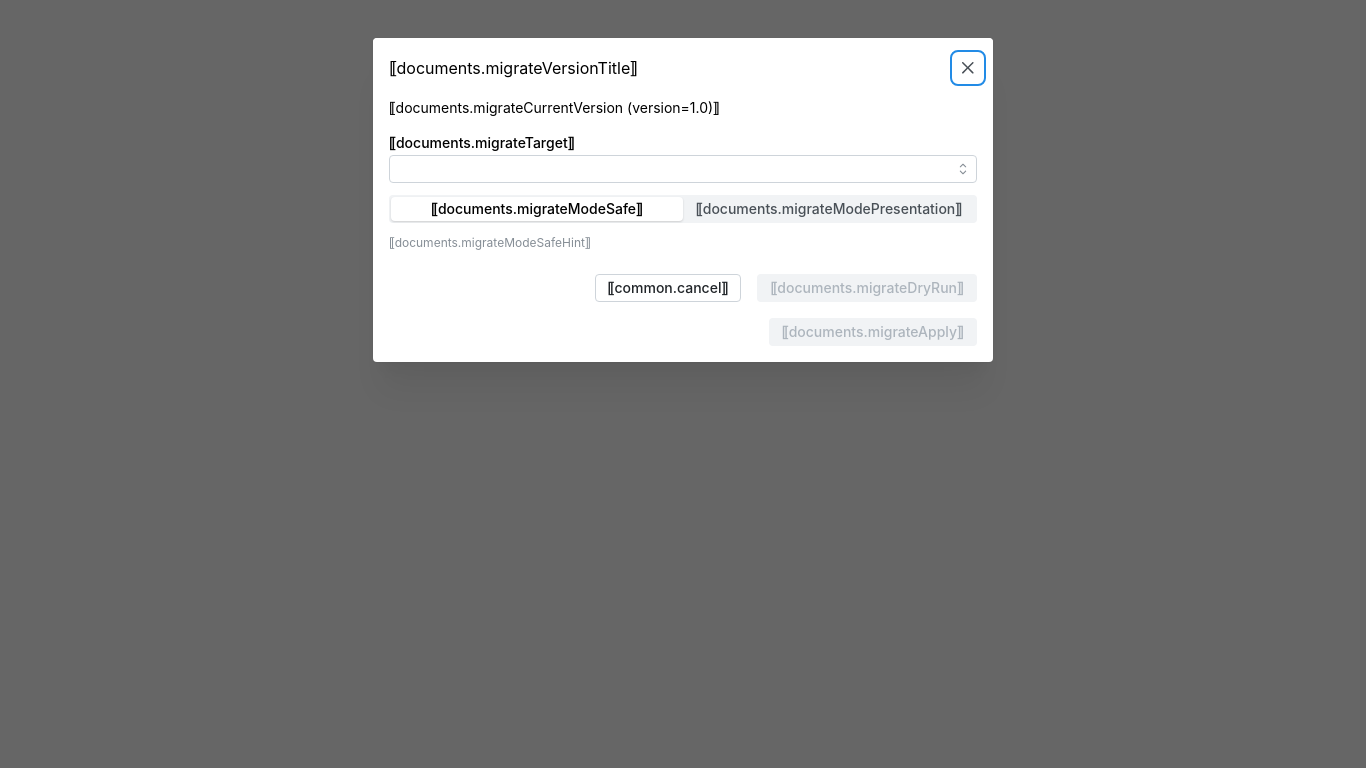
Test: VersionMigrationDialog: підтвердження резервної копії (KI-2) › значення, введене для одного вибору, не потрапляє в запит після зміни режиму
The image size is (1366, 768).
Click the field labelled "⟦documents.migrateTarget⟧": [683, 170] box top-left (389, 156), bottom-right (977, 184)
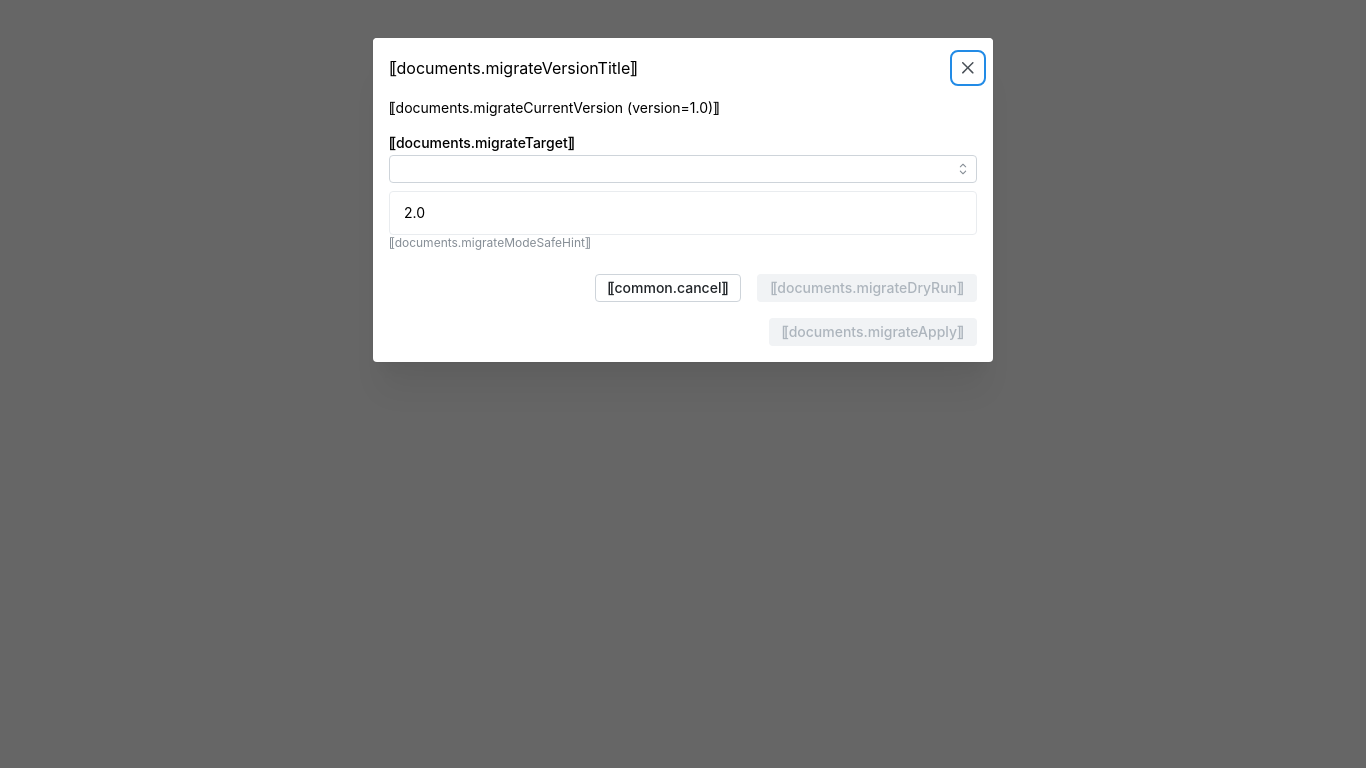
Click the option "2.0": [415, 213] box top-left (404, 204), bottom-right (425, 222)
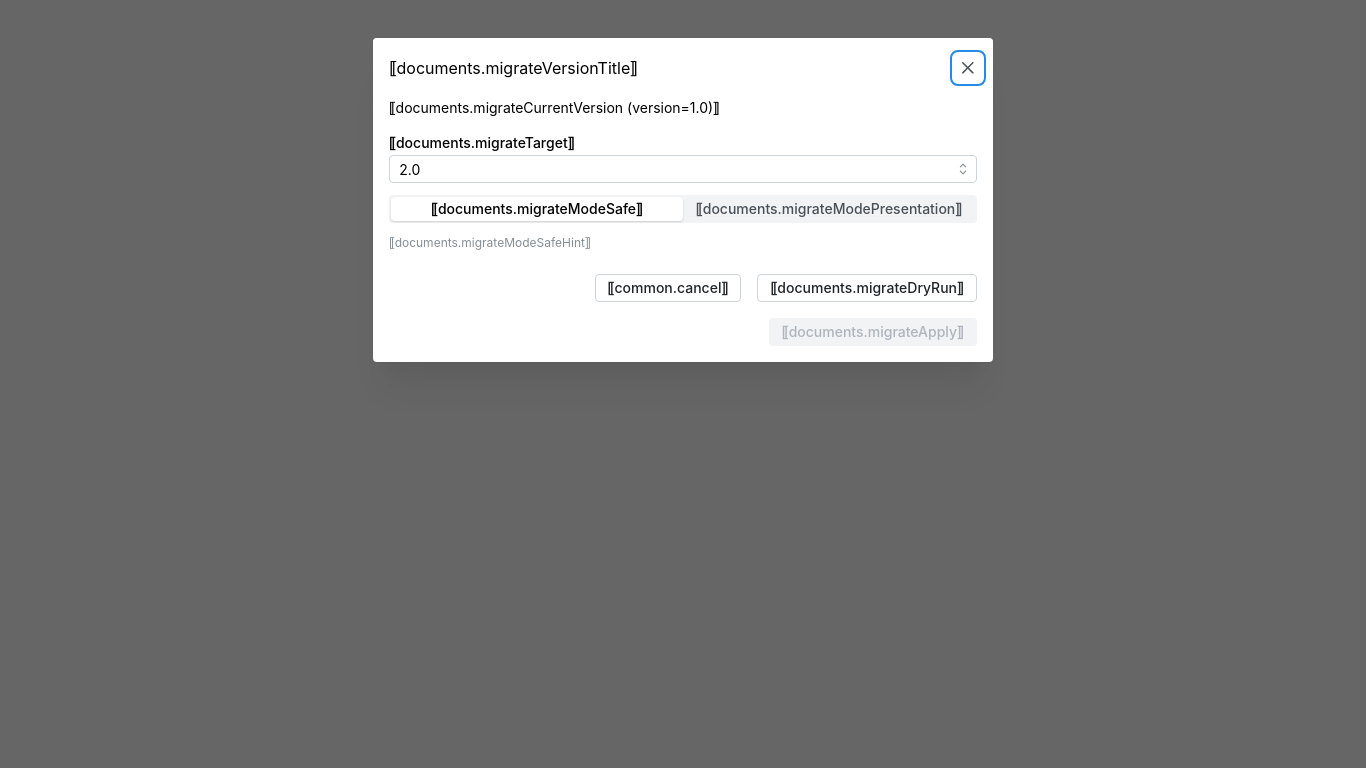
Click the button with test id "migrate-dry-run": [867, 288] box top-left (757, 274), bottom-right (977, 302)
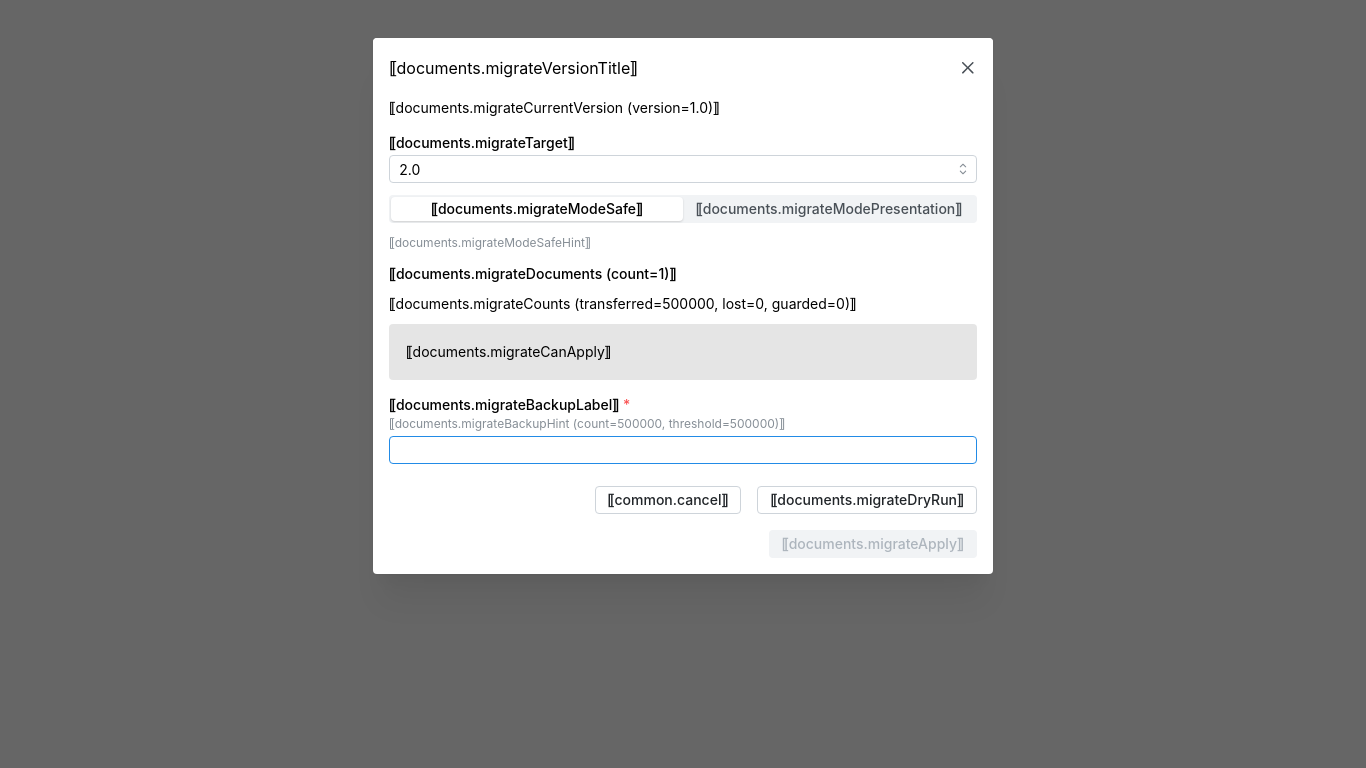
Check: the text "⟦documents.migrateCanApply⟧" is shown, box top-left (406, 344), bottom-right (611, 361)
In the field with test id "migrate-backup-confirmation": [683, 451] box top-left (389, 437), bottom-right (977, 465), type "D:\\Backup\\old.bak"
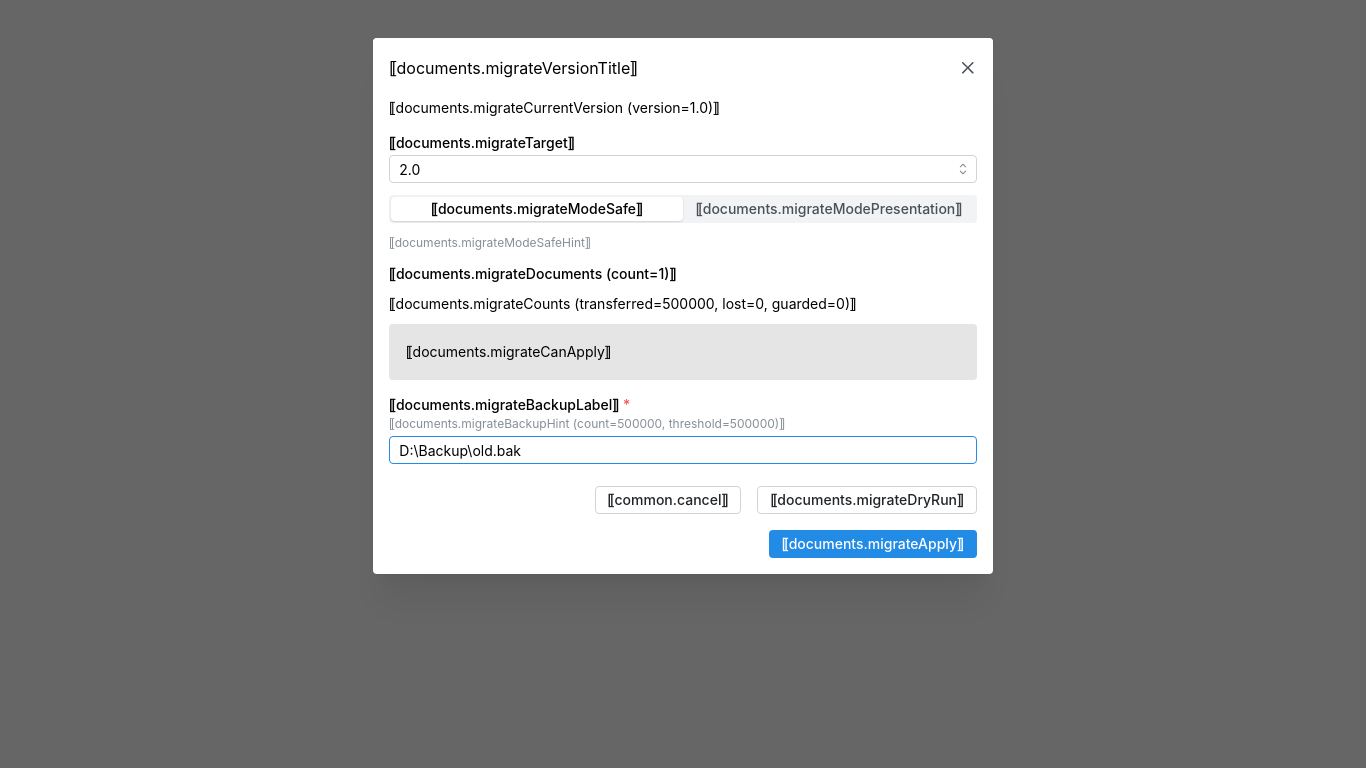
Click the text "⟦documents.migrateModePresentation⟧": [829, 209] box top-left (696, 200), bottom-right (962, 218)
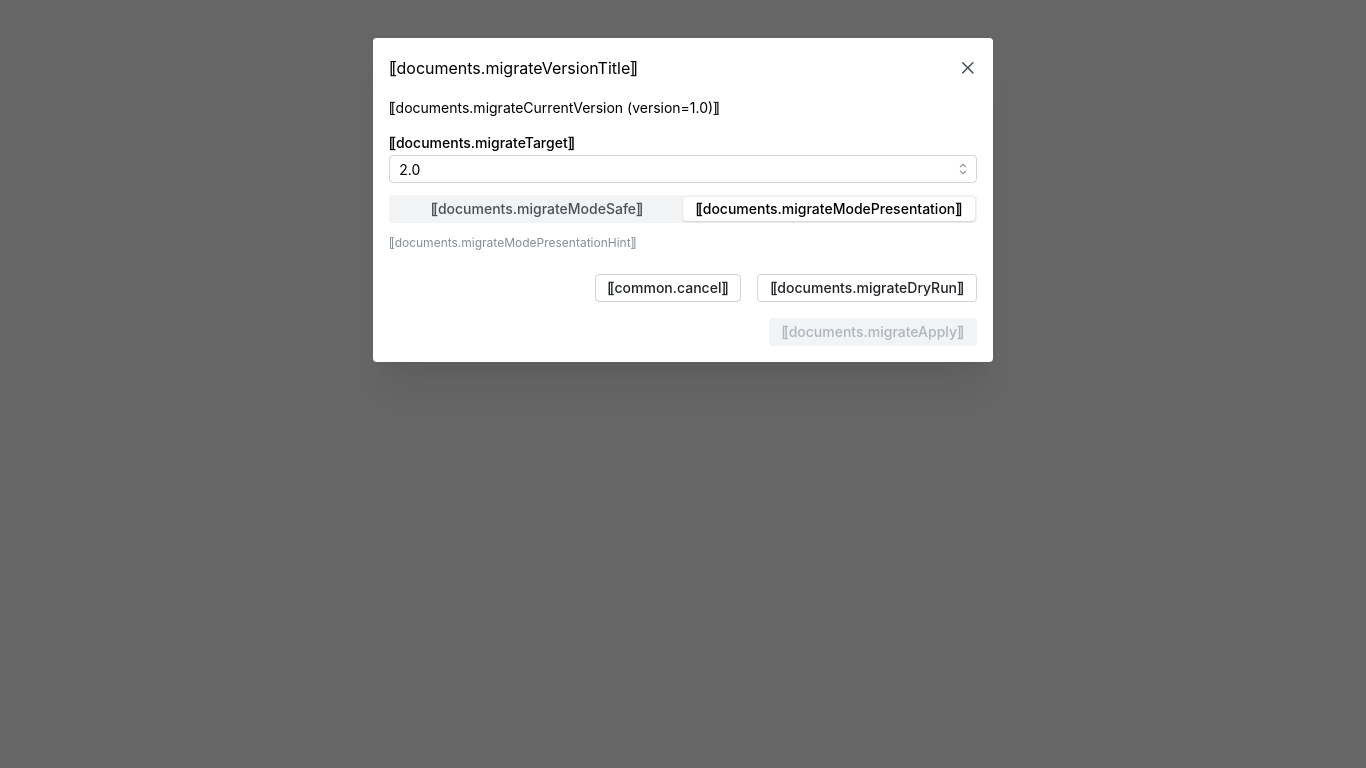
Check: the field with test id "migrate-backup-confirmation" is gone
Click the button with test id "migrate-dry-run": [867, 288] box top-left (757, 274), bottom-right (977, 302)
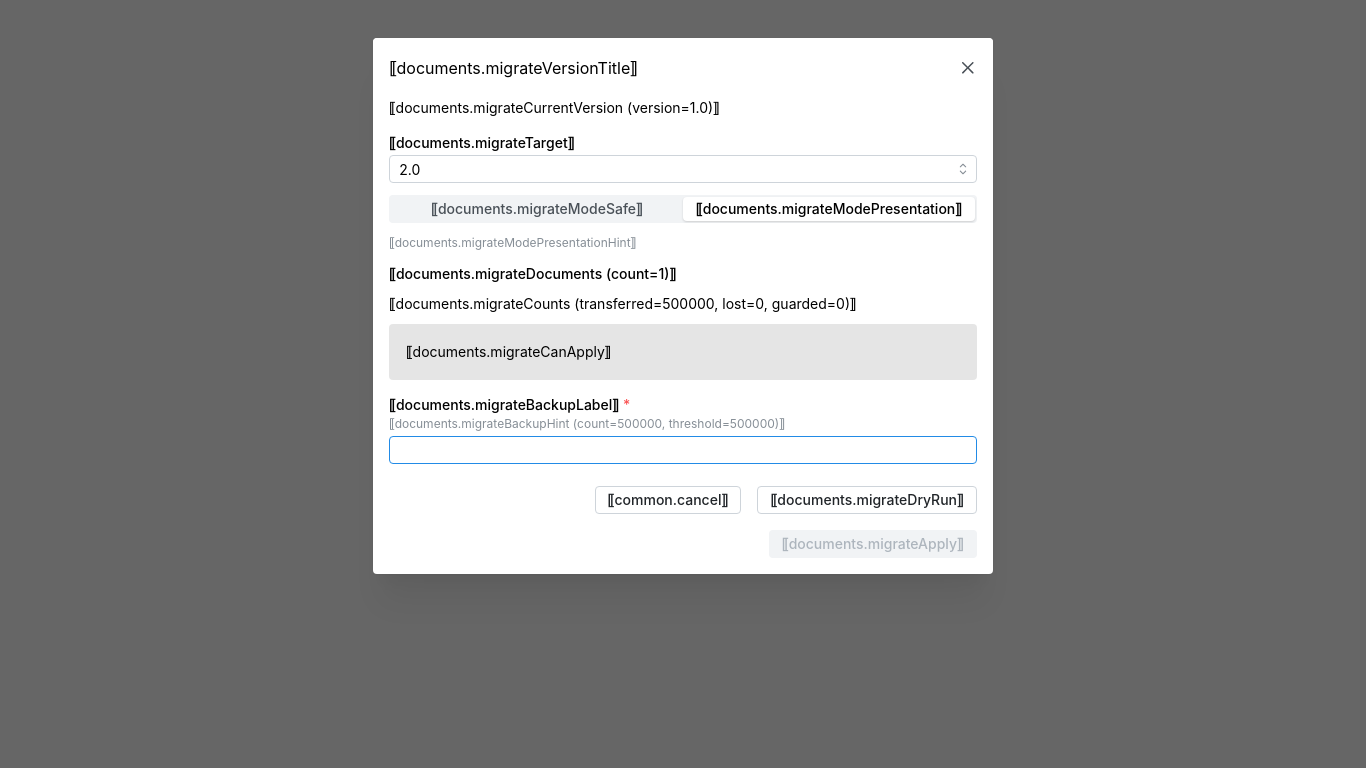
Check: the button with test id "migrate-apply" is disabled, box top-left (769, 531), bottom-right (977, 559)
Check: the field with test id "migrate-backup-confirmation" is empty, box top-left (389, 437), bottom-right (977, 465)
